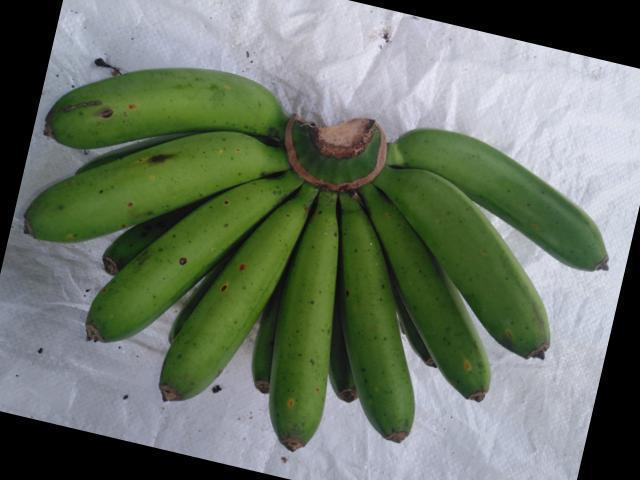unripe: (378, 159, 562, 376), (427, 111, 620, 290), (16, 133, 323, 241), (262, 205, 357, 461), (327, 190, 416, 454), (52, 56, 302, 144)
